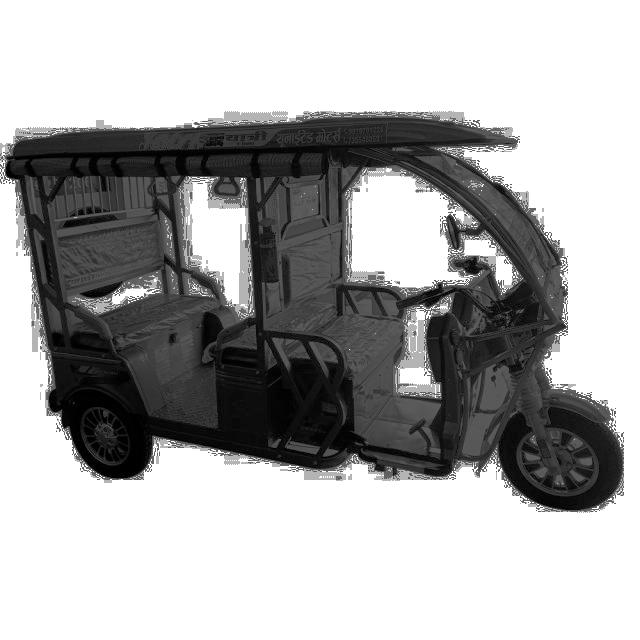Toto: (12, 106, 624, 518)
